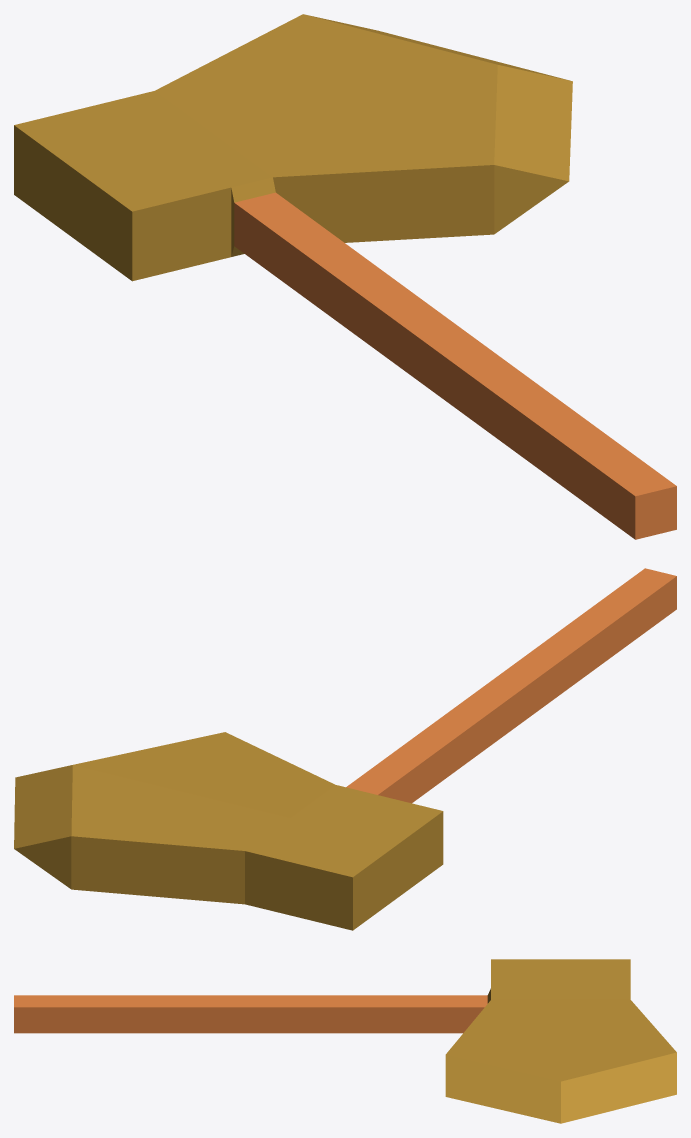
File: gold_axe.glb
3 views of the same model, one above another, from view 1: azimuth 30°, elevation 25°; view 2: azimuth 150°, elevation 25°; view 3: azimuth 270°, elevation 25° (orthographic). The views are drawn at different scales.
Parts seen in each view (by area): view 1: Cube; view 2: Cube; view 3: Cube.
Part boxes in pixels (x1,y1,x2,y2): Cube: (14,14,676,539); Cube: (14,568,676,930); Cube: (14,959,676,1123).
Bounding box in the file's own units: 7.32 × 1.06 × 14.25.
